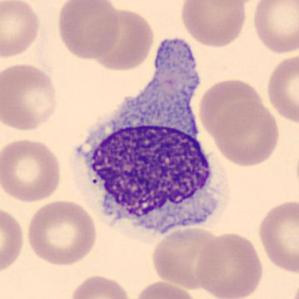Monocyte: (69, 35, 226, 237)
RBC: (24, 198, 100, 266), (149, 224, 227, 290), (193, 230, 265, 299), (86, 4, 157, 73), (211, 99, 281, 168), (0, 61, 62, 133), (0, 136, 65, 203), (196, 76, 265, 139), (55, 0, 122, 61), (179, 0, 249, 49), (255, 198, 298, 276), (250, 0, 298, 55), (0, 0, 43, 61), (264, 51, 298, 126), (0, 203, 27, 277), (67, 272, 135, 299), (131, 279, 201, 299), (198, 0, 264, 7)
